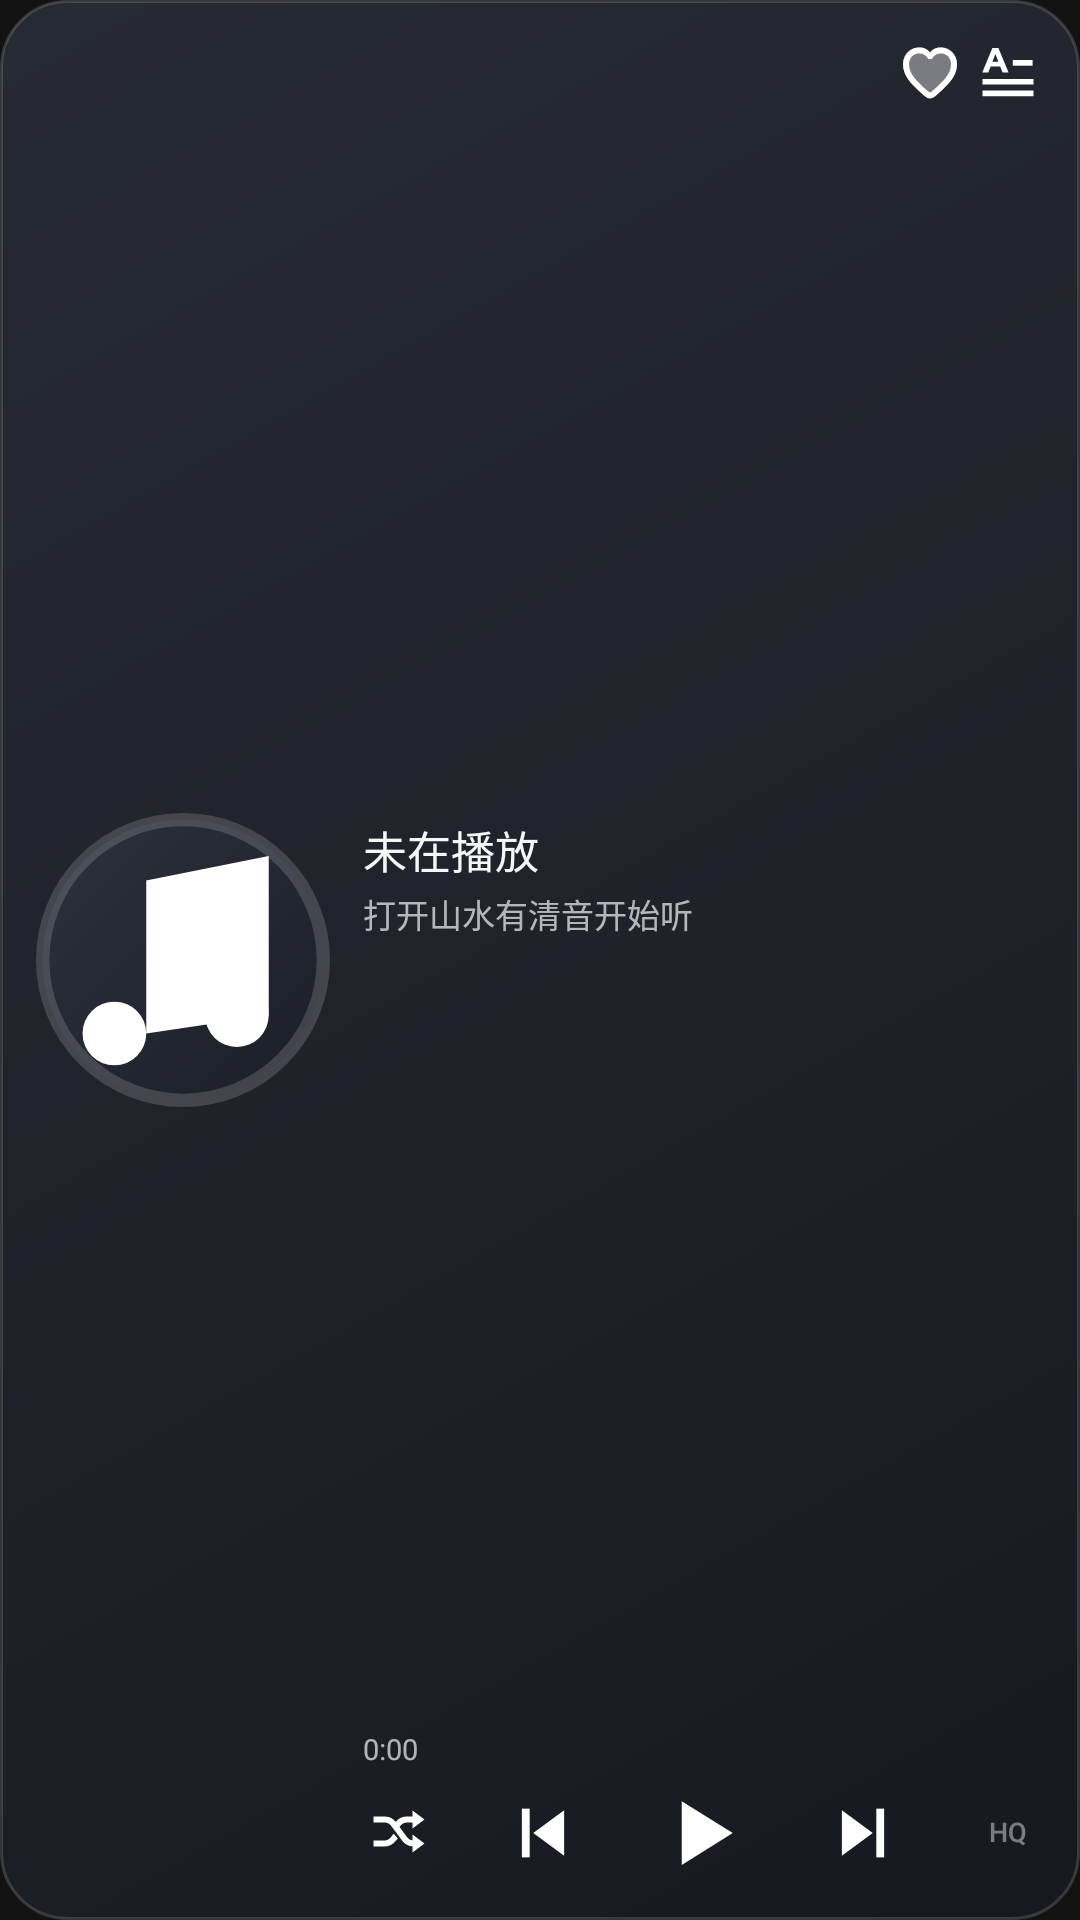

Where to tap for icons on this 1080w x 1920h app screen, as (x,y):
上一首: (543,1833)
下一首: (863,1833)
切换播放模式: (399,1831)
播放或暂停: (707,1833)
收藏或取消收藏: (930,73)
显示或隐藏歌词: (1008,72)
